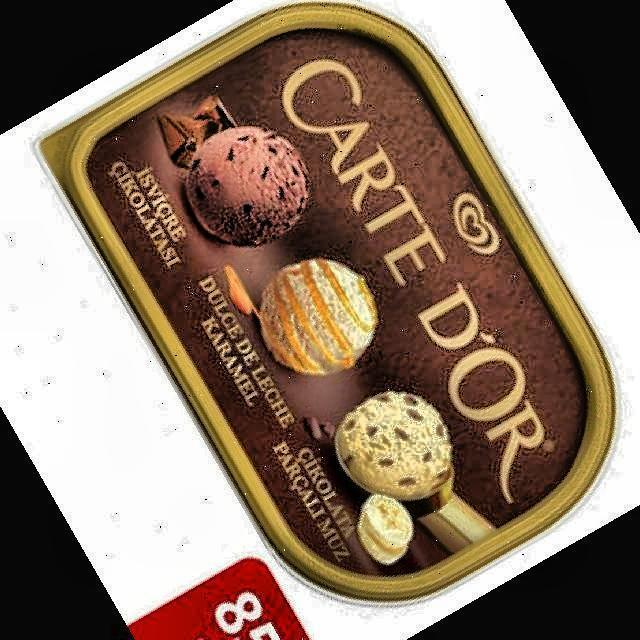plastic: (40, 3, 614, 599)
